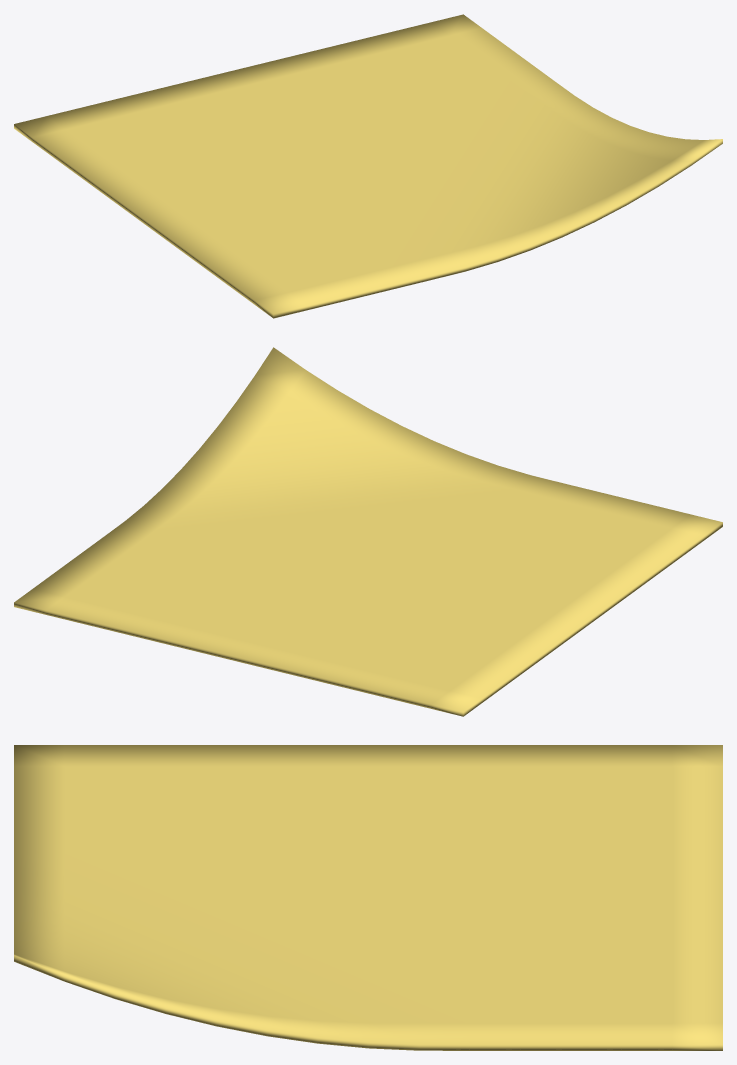
The model's file is PostIt_A.fbx.
3 renders of one model, top to bottom at view 1: azimuth 30°, elevation 25°; view 2: azimuth 150°, elevation 25°; view 3: azimuth 270°, elevation 25°, orthographic. The views are drawn at different scales.
Visible parts, largest first — view 1: PostIt_A; view 2: PostIt_A; view 3: PostIt_A.
Part boxes in pixels (x1=…): PostIt_A: x1=14, y1=14, x2=722, y2=318; PostIt_A: x1=14, y1=347, x2=722, y2=716; PostIt_A: x1=14, y1=745, x2=722, y2=1050.
Bounding box in the file's own units: 0.036 × 0.00535 × 0.036.
